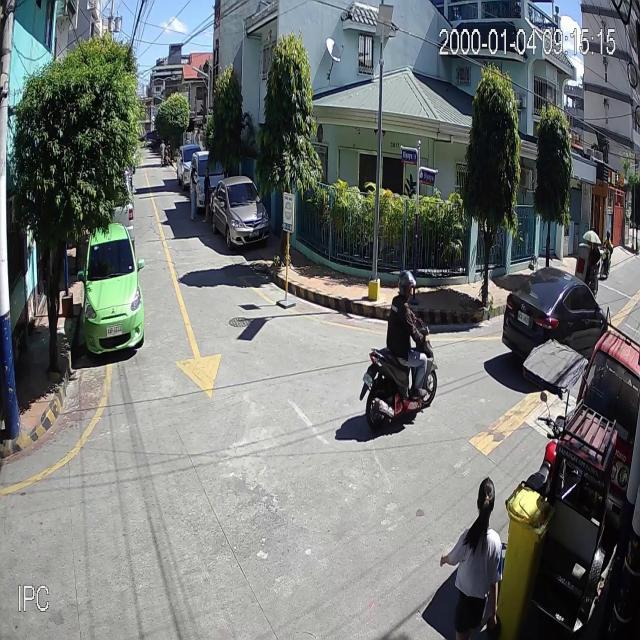standing: (188, 166, 201, 221), (202, 166, 213, 223)
walking: (440, 476, 508, 640), (159, 139, 166, 165)
